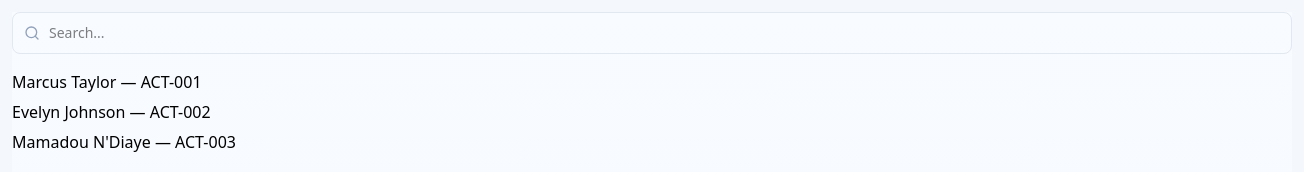
Test: SearchableList › filters items by the search query, matching on any field in getSearchableText
In the field with placeholder "Search...": [652, 33] box top-left (12, 12), bottom-right (1292, 54), type "evelyn"
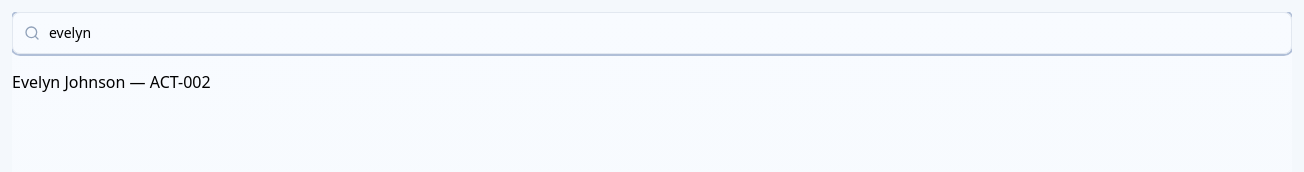
Check: the text "Evelyn Johnson — ACT-002" is shown, box top-left (12, 71), bottom-right (211, 93)
Check: the button "Marcus Taylor" is gone
Check: the button "Mamadou N'Diaye" is gone
